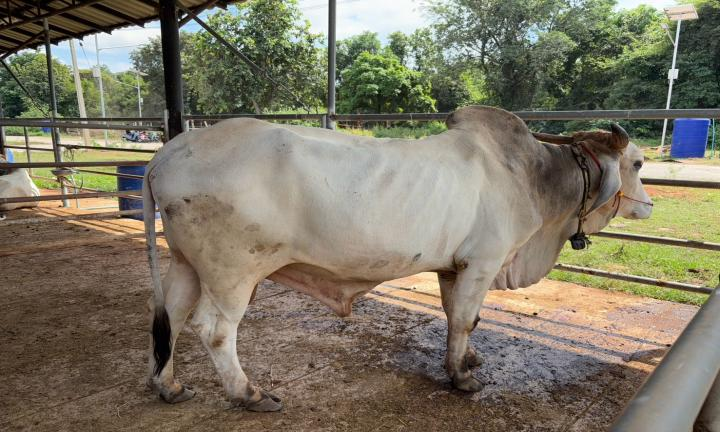Brahman: (142, 106, 652, 411)
